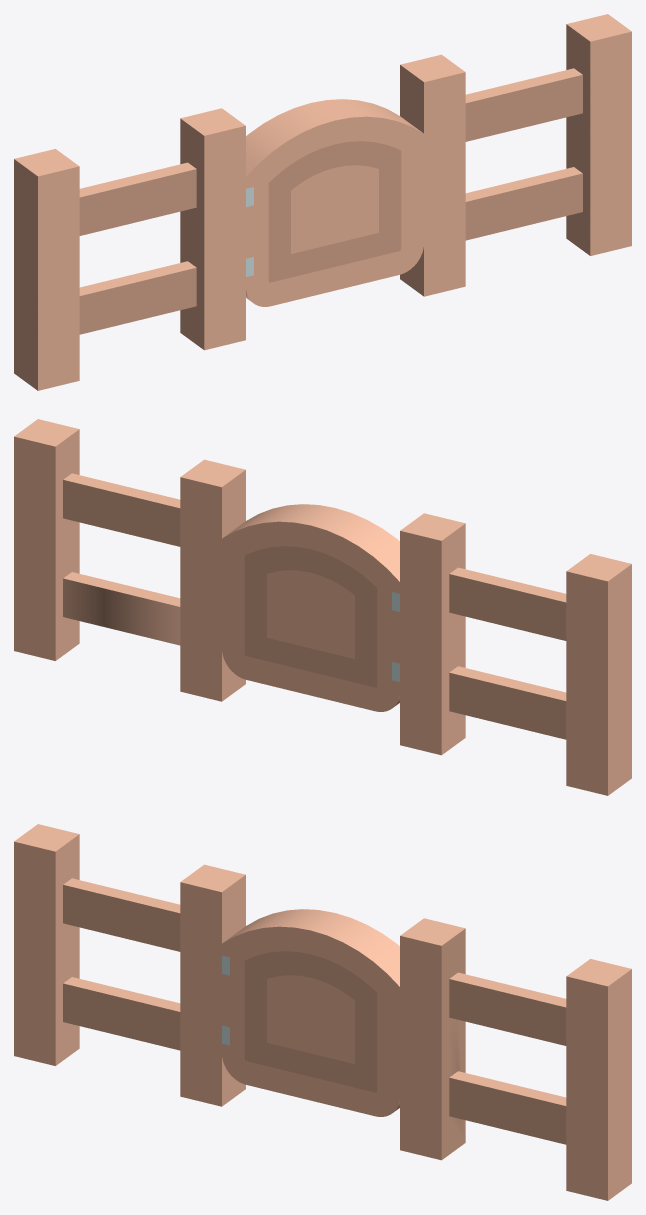
File: fence_gate.glb
3 renders of one model, top to bottom at view 1: azimuth 30°, elevation 25°; view 2: azimuth 150°, elevation 25°; view 3: azimuth 330°, elevation 25°, orthographic.
Parts seen in each view (by area): view 1: fence_gate, gate; view 2: fence_gate, gate; view 3: fence_gate, gate.
Part boxes in pixels (x1=…): fence_gate: x1=14, y1=14, x2=631, y2=390; gate: x1=246, y1=99, x2=423, y2=306; fence_gate: x1=14, y1=419, x2=631, y2=795; gate: x1=222, y1=504, x2=399, y2=711; fence_gate: x1=14, y1=824, x2=631, y2=1200; gate: x1=222, y1=909, x2=399, y2=1116.
Size of the model in its own units: 1 by 0.345 by 0.07.
